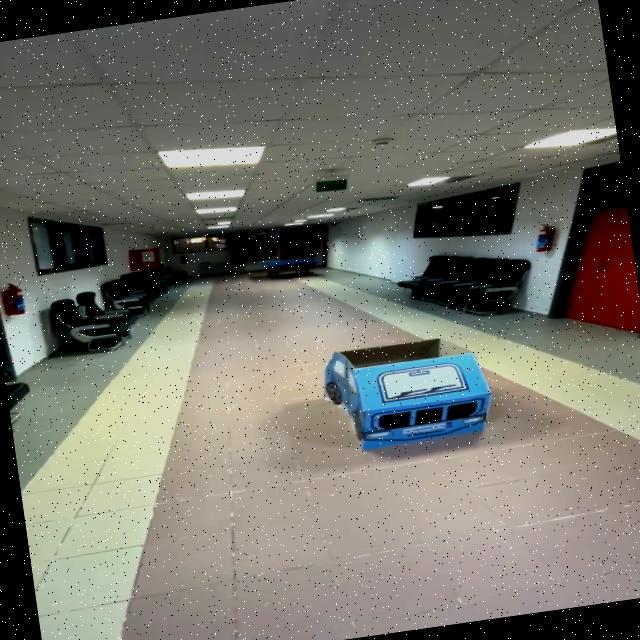blue_car: (281, 315, 525, 483)
